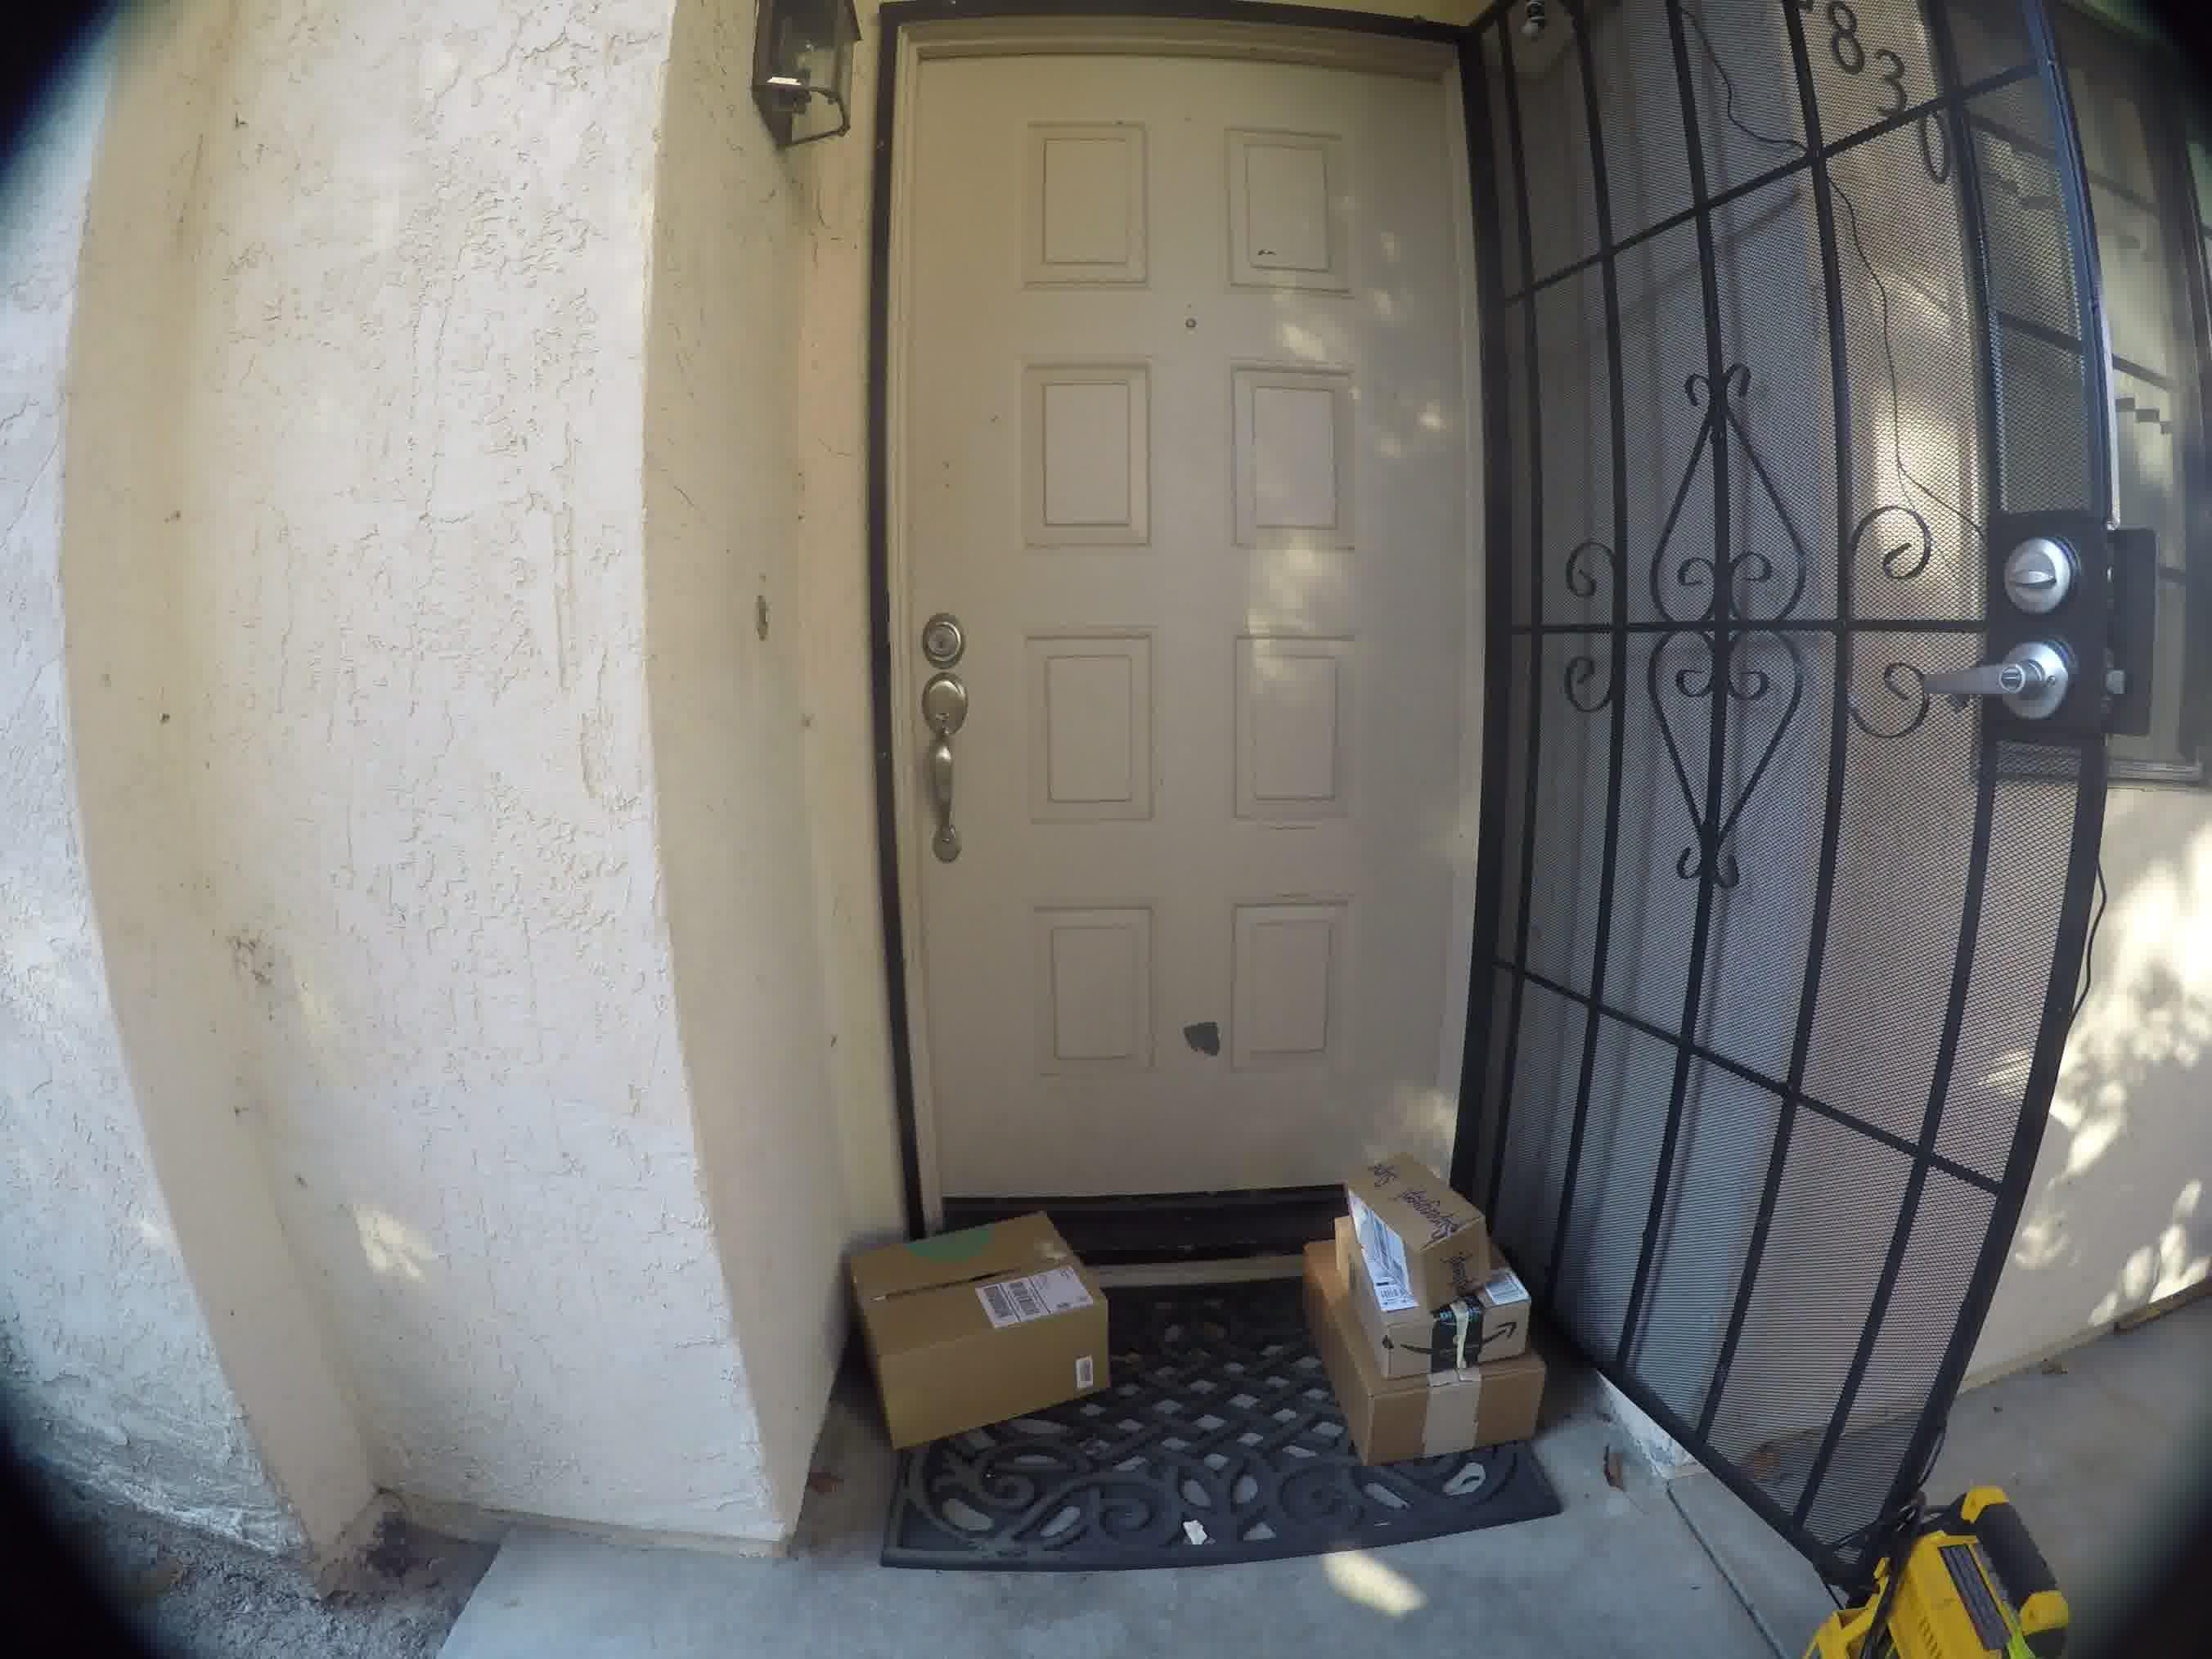box: (827, 1218, 1122, 1429), (1310, 1321, 1564, 1497), (1310, 1155, 1522, 1309)
